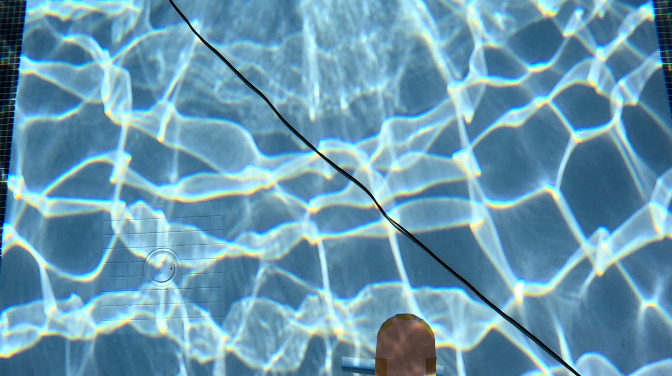pathmarker: (376, 313, 434, 375)
